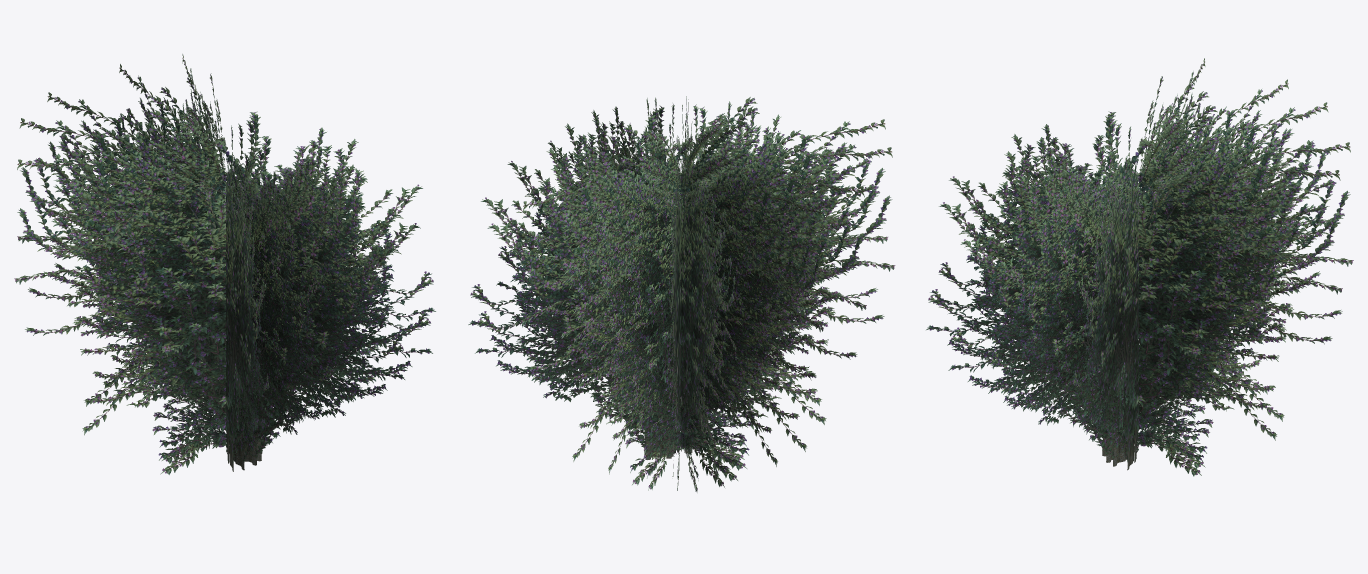
The model's file is bush3.fbx.
The picture shows the model from 3 angles, left to right: view 1: azimuth 30°, elevation 25°; view 2: azimuth 150°, elevation 25°; view 3: azimuth 270°, elevation 25°; orthographic projection.
Visible parts, largest first — view 1: bush3; view 2: bush3; view 3: bush3.
Part boxes in pixels (<box>): bush3: <box>14,54,435,474</box>; bush3: <box>468,96,895,492</box>; bush3: <box>926,58,1353,476</box>.
Size of the model in its own units: 45.8 by 42.83 by 45.8.
1 material, 1 textured.
